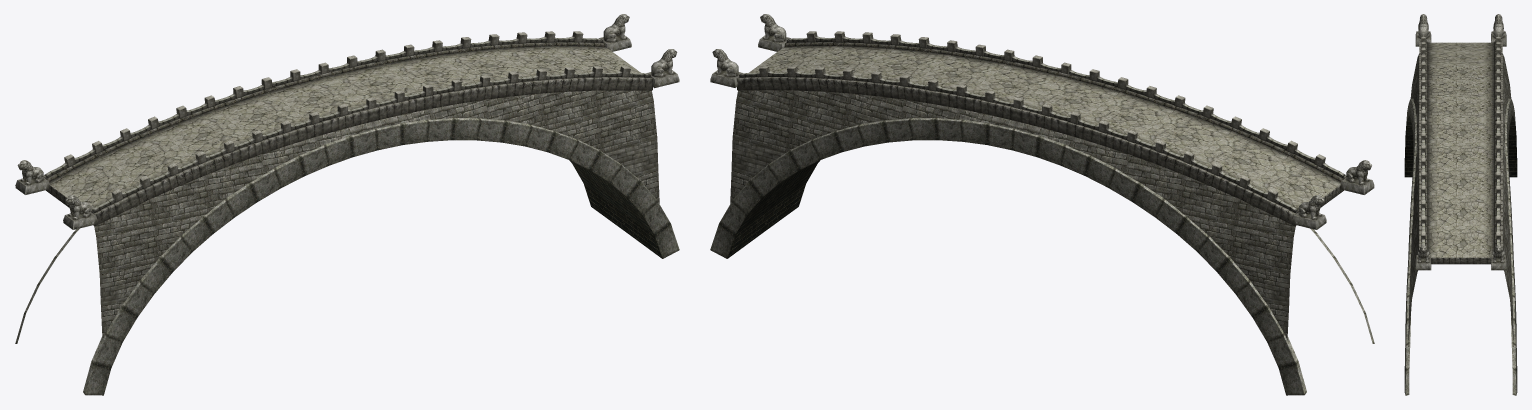
The model's file is bigstone_bridge.glb.
3 renders of one model, left to right at view 1: azimuth 30°, elevation 25°; view 2: azimuth 150°, elevation 25°; view 3: azimuth 270°, elevation 25°, orthographic. The views are drawn at different scales.
Visible parts, largest first — view 1: bigstone_bridge; view 2: bigstone_bridge; view 3: bigstone_bridge.
Part boxes in pixels (box(x1,y1,x2,y2)): bigstone_bridge: box(15, 14, 679, 395); bigstone_bridge: box(710, 14, 1374, 395); bigstone_bridge: box(1404, 14, 1517, 395).
Bounding box in the file's own units: 77.14 × 26.51 × 15.79.
Materials: 1 (1 with a texture image).
